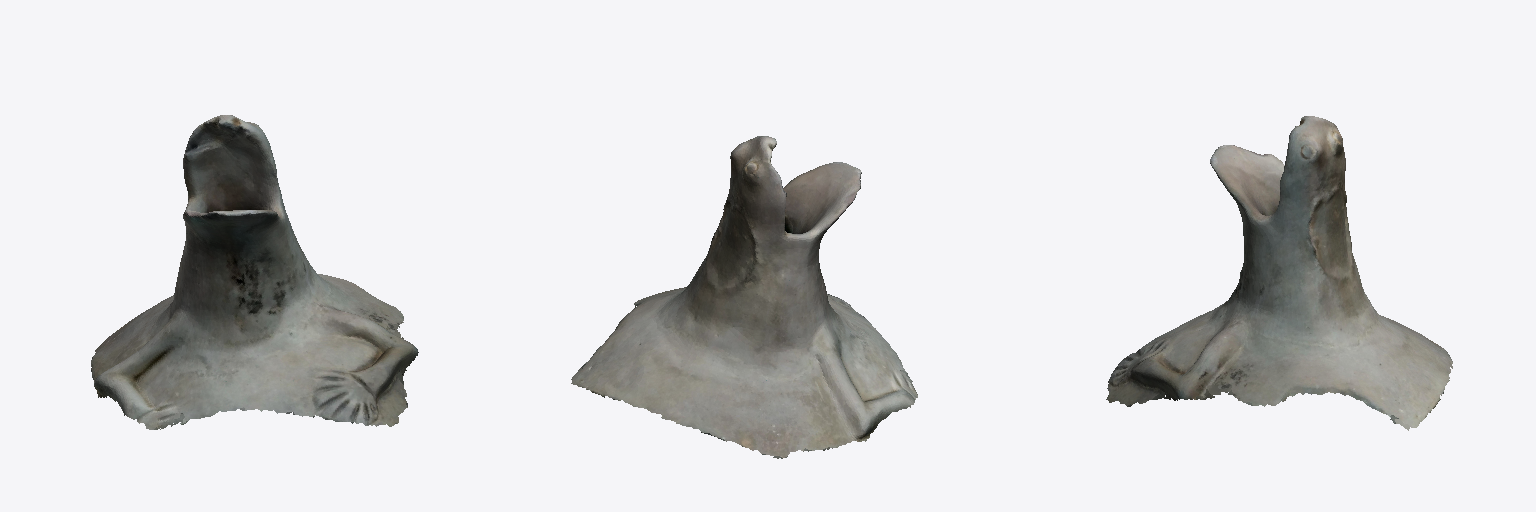
The picture shows the model from 3 angles: view 1: azimuth 30°, elevation 25°; view 2: azimuth 150°, elevation 25°; view 3: azimuth 270°, elevation 25°; orthographic projection.
Visible parts, largest first — view 1: mmGroup0; view 2: mmGroup0; view 3: mmGroup0.
Part boxes in pixels (x1,y1,x2,y2): mmGroup0: (91, 115, 418, 429); mmGroup0: (571, 136, 917, 458); mmGroup0: (1106, 116, 1452, 430).
Bounding box in the file's own units: 0.5476 × 0.5048 × 0.5992.
2 materials, 2 textured.